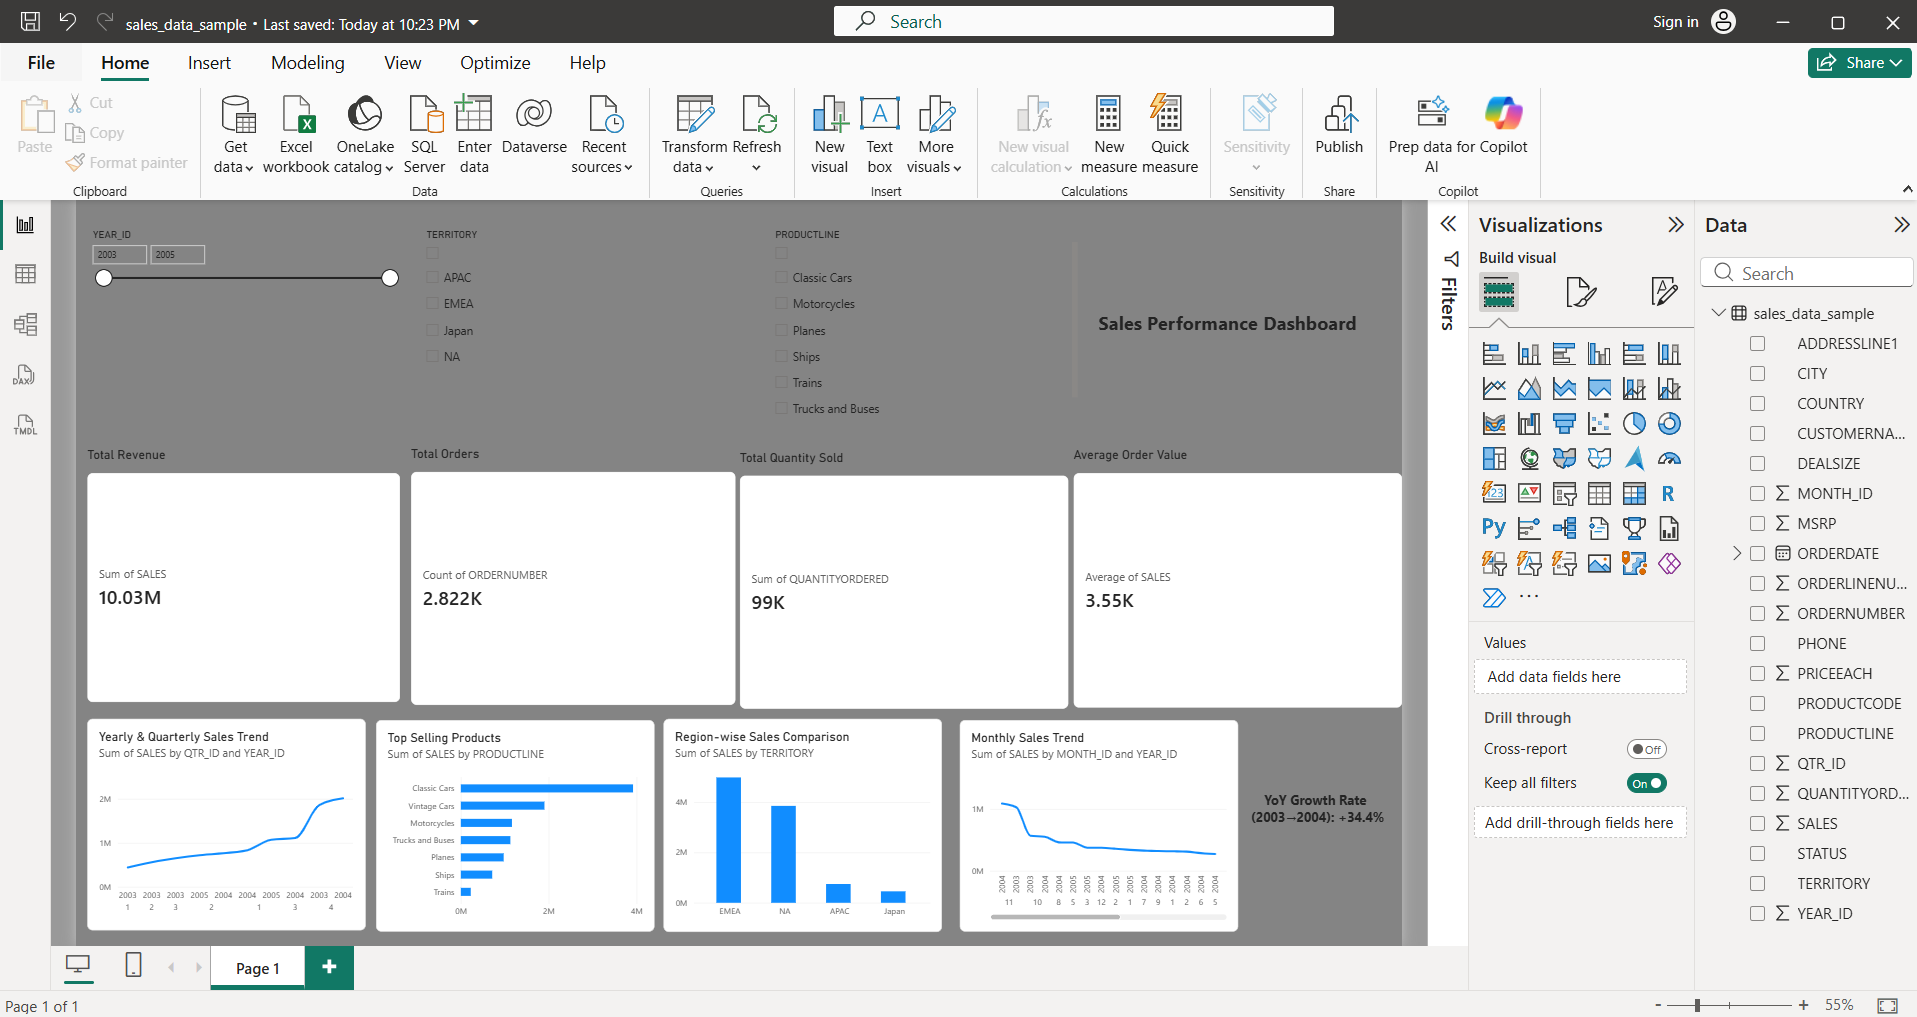

What the dashboard file says about the page in this screenshot:
{"tool":"powerbi","page":{"name":"Page 1","canvas":[1920,1080],"ordinal":0},"visuals":[{"type":"cardVisual","title":"Total Revenue","fields":{"Data":["Sum(sales_data_sample.SALES)"]},"box":[16.1,359.1,453.9,369.2],"z":0},{"type":"cardVisual","title":"Total Orders","fields":{"Data":["CountNonNull(sales_data_sample.ORDERNUMBER)"]},"box":[484.1,357.1,470,375.2],"z":1000},{"type":"cardVisual","title":"Total Quantity Sold","fields":{"Data":["Sum(sales_data_sample.QUANTITYORDERED)"]},"box":[960.2,361.1,476.1,375.2],"z":2000},{"type":"cardVisual","title":"Average Order Value","fields":{"Data":["Avg(sales_data_sample.SALES)"]},"box":[1444.3,359.1,476.1,377.2],"z":3000},{"type":"lineChart","title":"Yearly & Quarterly Sales Trend","fields":{"Category":["sales_data_sample.QTR_ID","sales_data_sample.YEAR_ID"],"Y":["Sum(sales_data_sample.SALES)"]},"box":[16.1,750.4,403.4,306.6],"z":4000},{"type":"clusteredBarChart","title":"Top Selling Products","fields":{"Category":["sales_data_sample.PRODUCTLINE"],"Y":["Sum(sales_data_sample.SALES)"]},"box":[433.7,752.4,403.4,306.6],"z":5000},{"type":"clusteredColumnChart","title":"Region-wise Sales Comparison","fields":{"Category":["sales_data_sample.TERRITORY"],"Y":["Sum(sales_data_sample.SALES)"]},"box":[851.3,750.4,403.4,308.6],"z":6000},{"type":"slicer","fields":{"Values":["sales_data_sample.YEAR_ID"]},"box":[16.1,42.4,453.9,280.4],"z":7000},{"type":"slicer","fields":{"Values":["sales_data_sample.TERRITORY"]},"box":[500.3,42.4,439.8,280.4],"z":8000},{"type":"slicer","fields":{"Values":["sales_data_sample.PRODUCTLINE"]},"box":[1004.6,42.4,445.8,280.4],"z":9000},{"type":"textbox","box":[1480.7,159.4,439.8,46.4],"z":10000},{"type":"lineChart","title":"Monthly Sales Trend","fields":{"Category":["sales_data_sample.MONTH_ID","sales_data_sample.YEAR_ID"],"Y":["Sum(sales_data_sample.SALES)"]},"box":[1278.9,752.4,403.4,306.6],"z":11000},{"type":"textbox","box":[1700.5,855.3,219.9,68.6],"z":12000}]}

Visuals, with their boxes on the page's 1920x1080 design canvas (x1, y1, x2, y2). These are canvas units, not pixel positions in the 1917x1017 screenshot, which may show the page scaled, cropped or inside an application window:
"Total Revenue" cardVisual: (16,359,470,728)
"Total Orders" cardVisual: (484,357,954,732)
"Total Quantity Sold" cardVisual: (960,361,1436,736)
"Average Order Value" cardVisual: (1444,359,1920,736)
"Yearly & Quarterly Sales Trend" lineChart: (16,750,420,1057)
"Top Selling Products" clusteredBarChart: (434,752,837,1059)
"Region-wise Sales Comparison" clusteredColumnChart: (851,750,1255,1059)
slicer - sales_data_sample.YEAR_ID: (16,42,470,323)
slicer - sales_data_sample.TERRITORY: (500,42,940,323)
slicer - sales_data_sample.PRODUCTLINE: (1005,42,1450,323)
textbox: (1481,159,1920,206)
"Monthly Sales Trend" lineChart: (1279,752,1682,1059)
textbox: (1700,855,1920,924)
